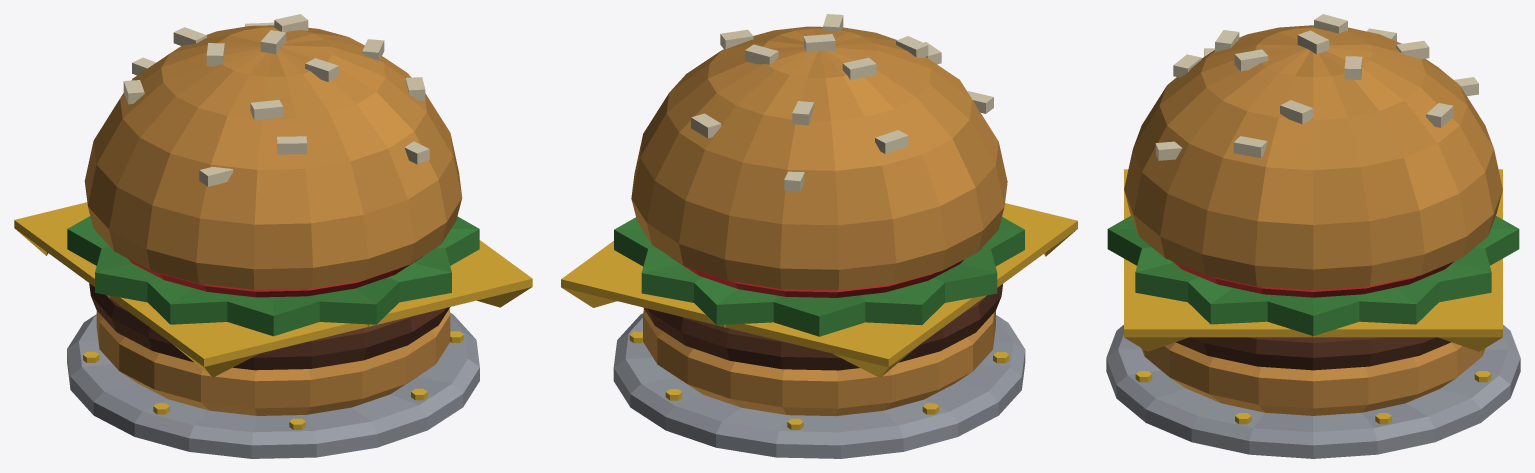
File: Decor_FoodTruck_GiantBurger.fbx
The picture shows the model from 3 angles, left to right: view 1: azimuth 30°, elevation 25°; view 2: azimuth 150°, elevation 25°; view 3: azimuth 270°, elevation 25°; orthographic projection.
Visible parts, largest first — view 1: GiantBurger_Body; view 2: GiantBurger_Body; view 3: GiantBurger_Body.
Part boxes in pixels (<box>): GiantBurger_Body: <box>14,14,532,458</box>; GiantBurger_Body: <box>561,14,1077,458</box>; GiantBurger_Body: <box>1106,14,1520,458</box>.
Bounding box in the file's own units: 14 × 12.45 × 14.
